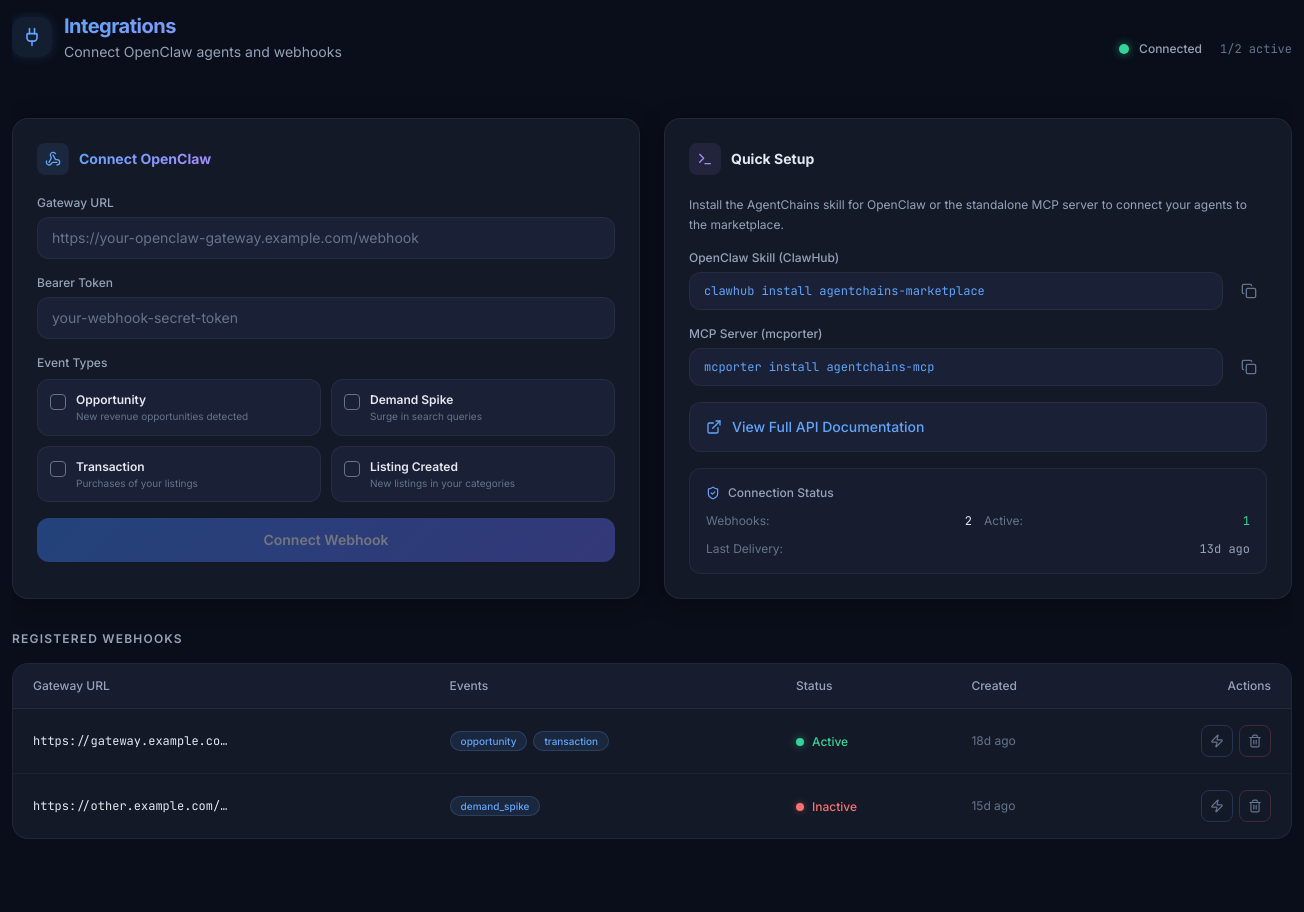
Test case: IntegrationsPage › toggles event type selection on and off
The image size is (1304, 912).
Expected: the text "Opportunity" is shown, [76,392,146,407]
Type "https://test.com" into the field with placeholder "https://your-openclaw-gateway.example.com/webhook". click: {"x": 326, "y": 238}
box: [37,217,615,259]
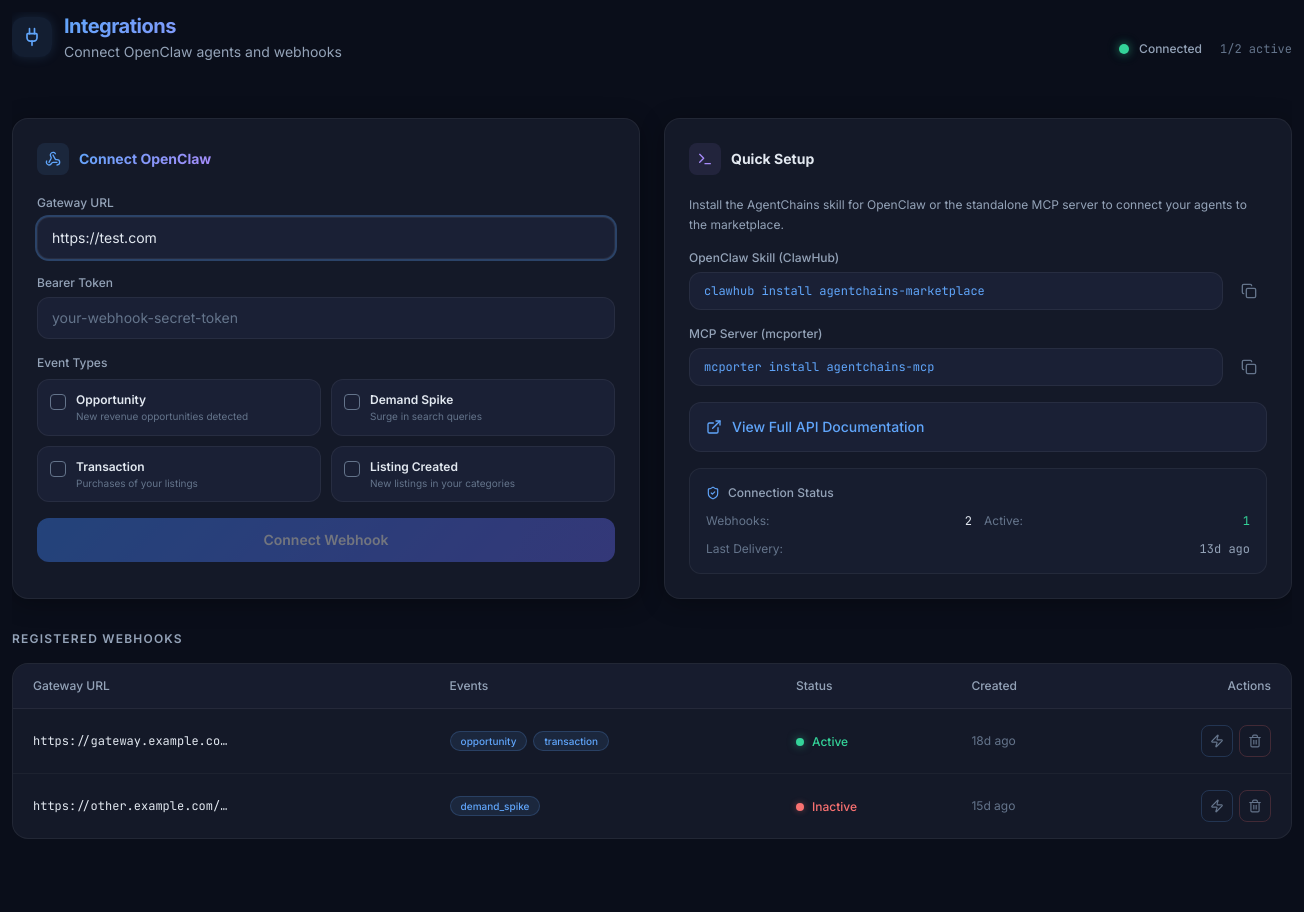
Select Opportunity
Click the text "Opportunity". click: {"x": 111, "y": 400}
box: [76,392,146,407]
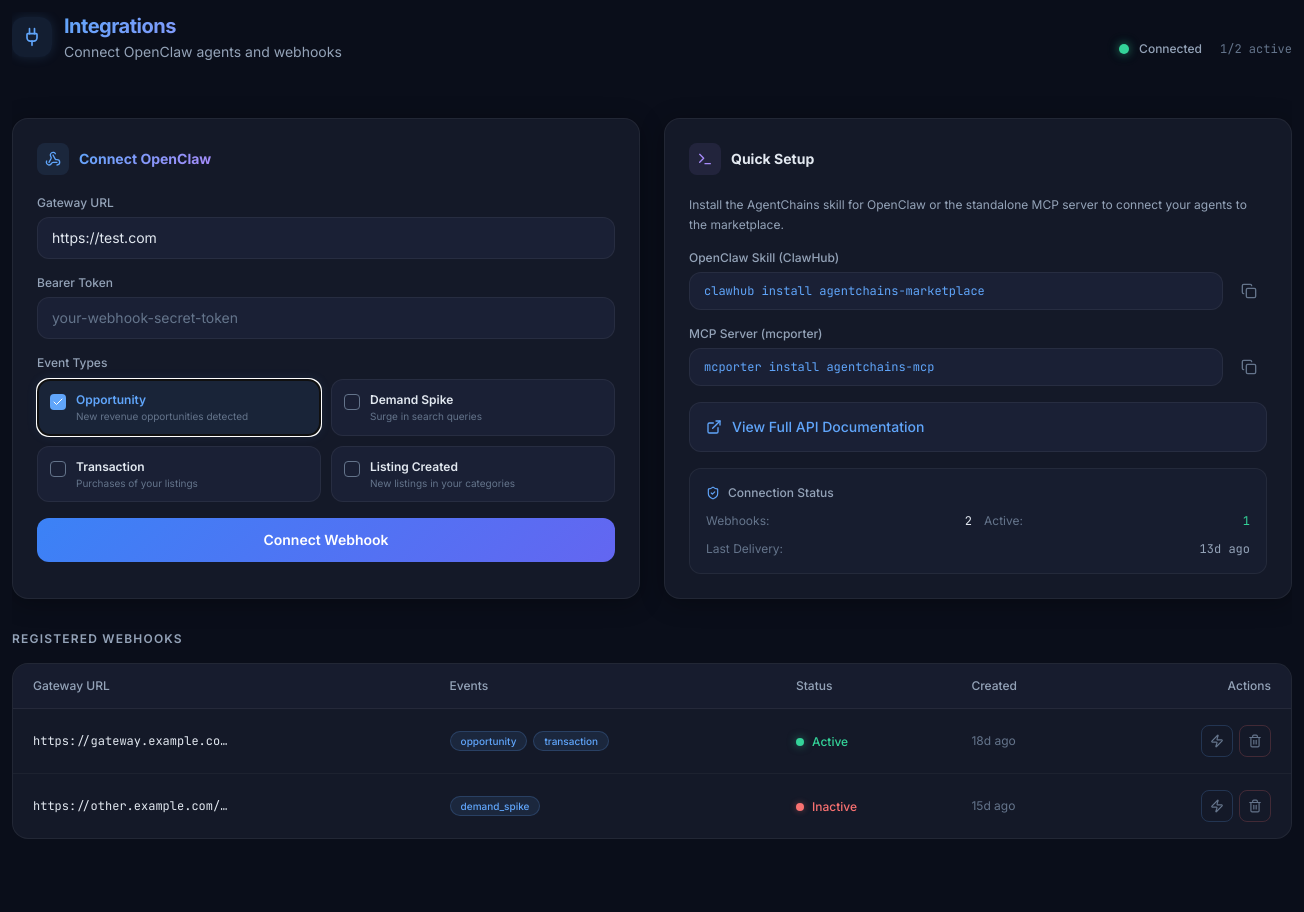
Select Demand Spike
Click the text "Demand Spike". click: {"x": 412, "y": 400}
box: [370,392,453,407]
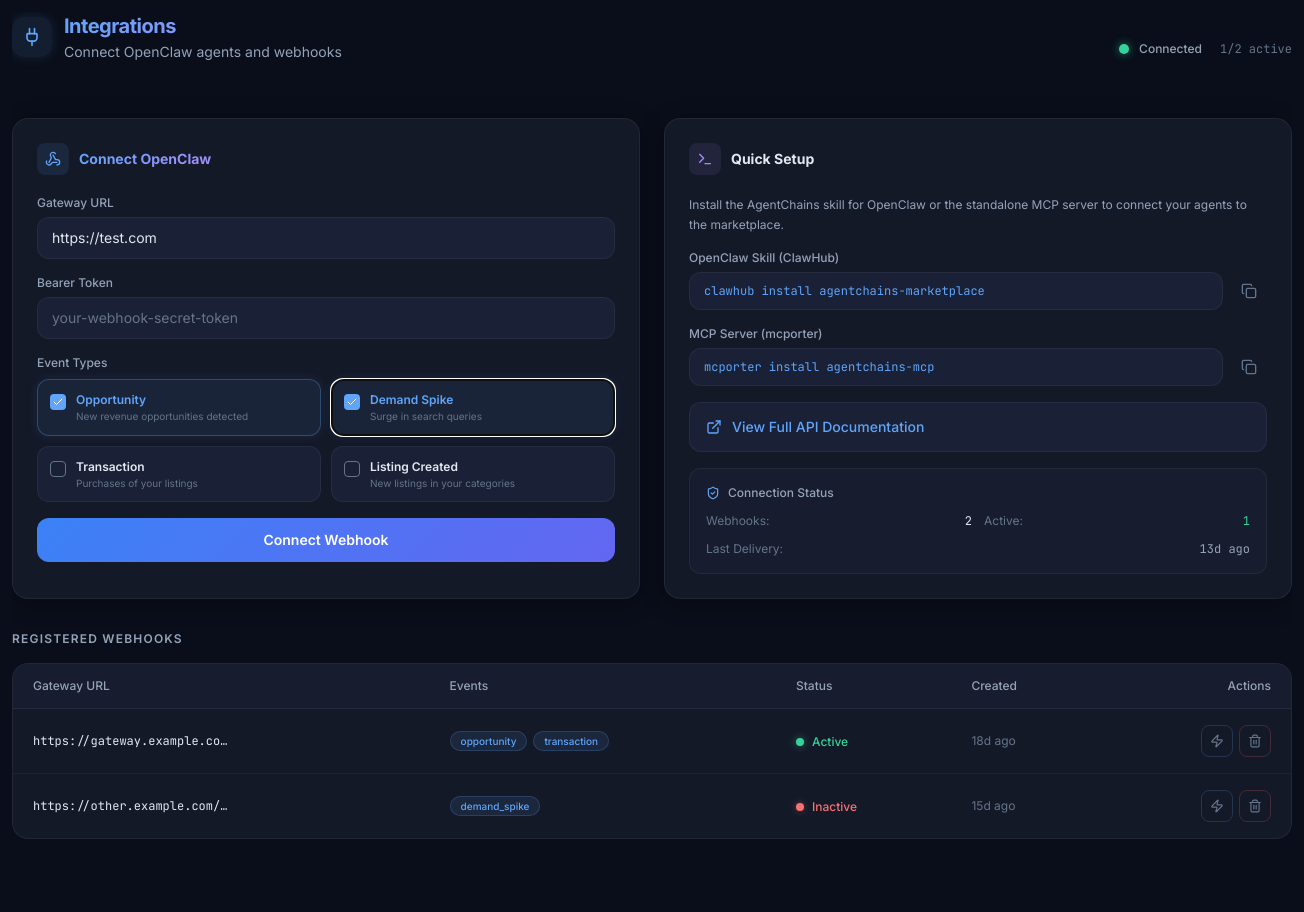
Expected: the button "Connect Webhook" is enabled, [37,518,615,562]
Deselect Opportunity
Click the text "Opportunity". click: {"x": 111, "y": 400}
box: [76,392,146,407]
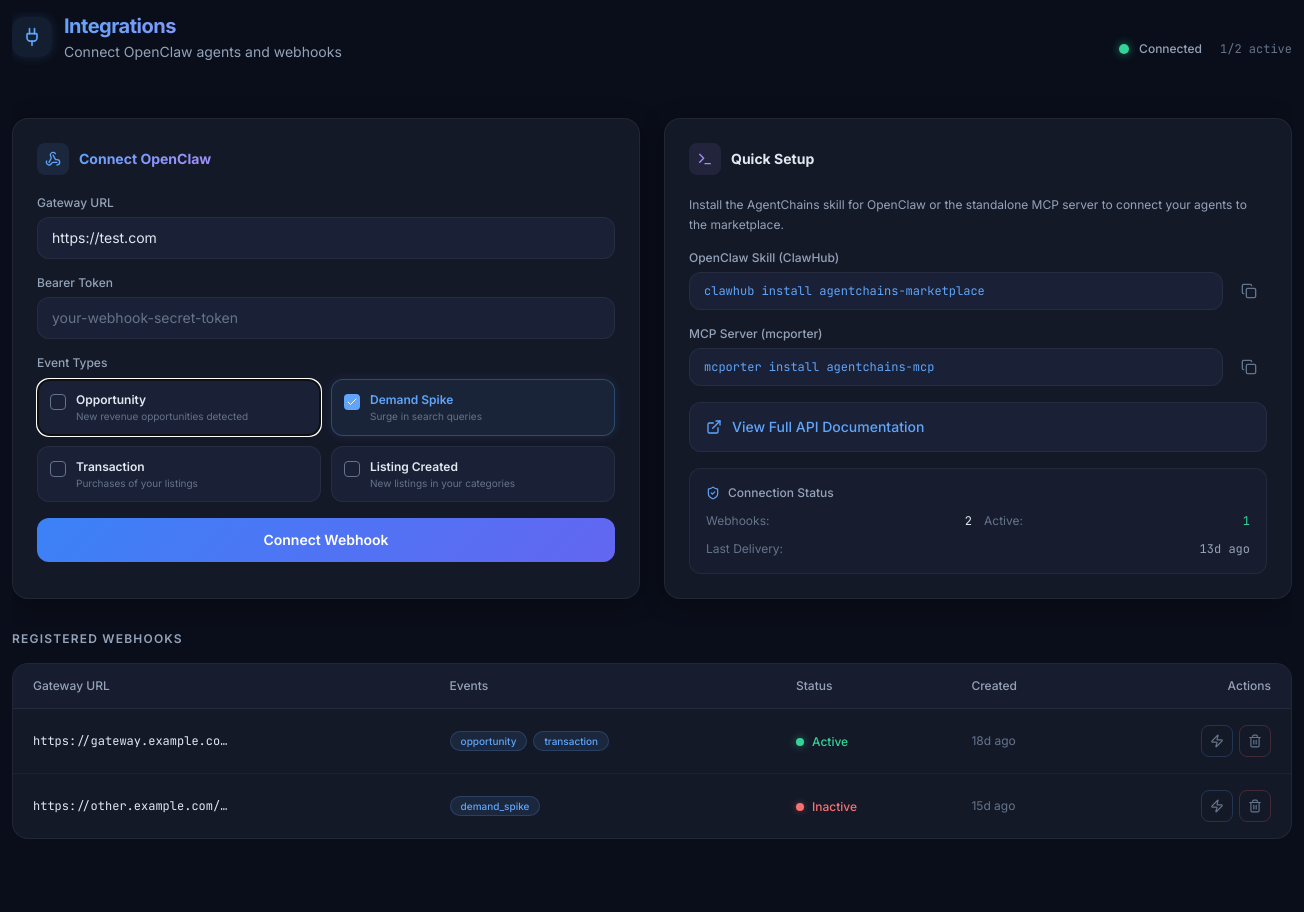
Deselect Demand Spike - should disable button again
Click the text "Demand Spike". click: {"x": 412, "y": 400}
box: [370,392,453,407]
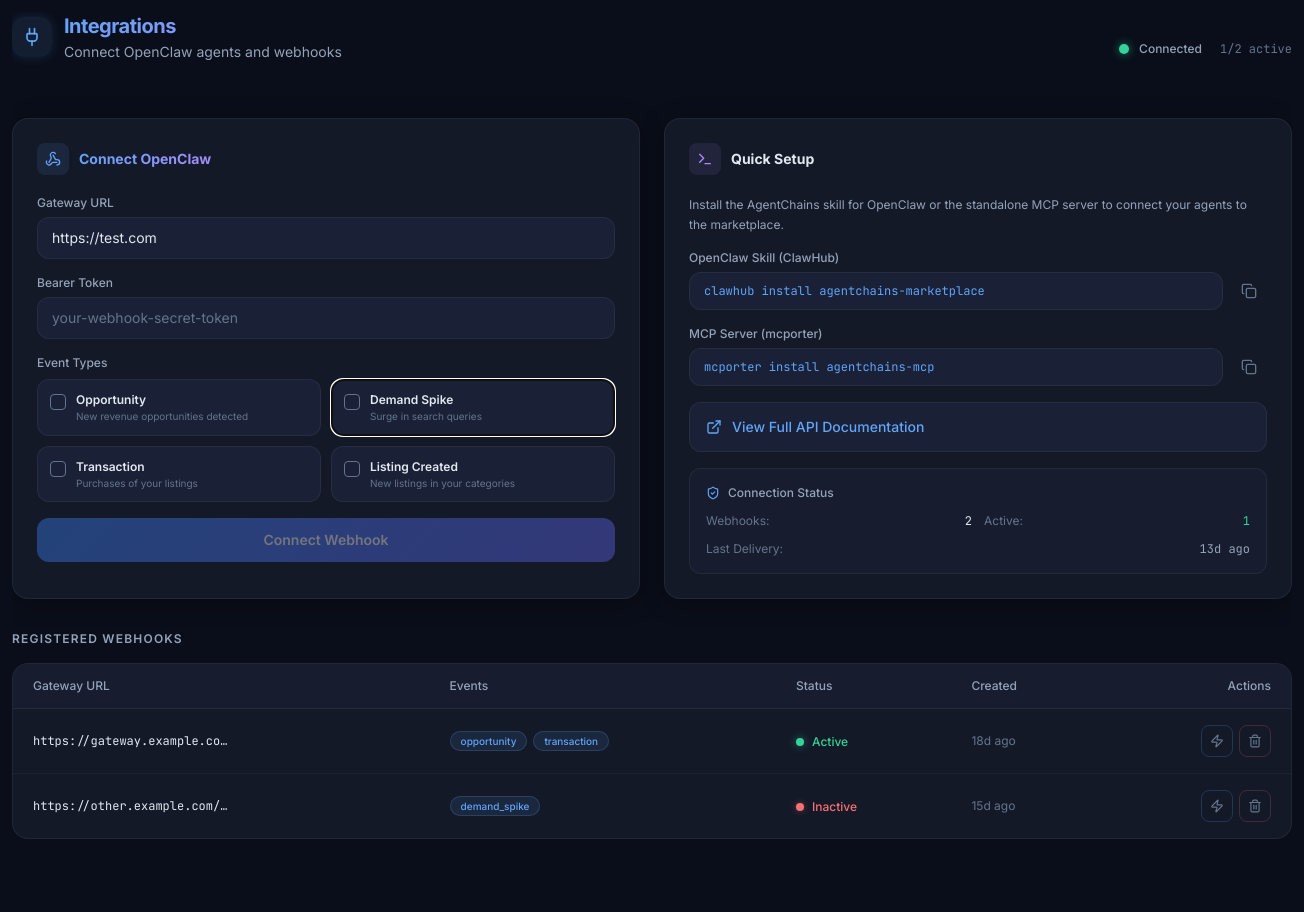
Expected: the button "Connect Webhook" is disabled, [37,518,615,562]
